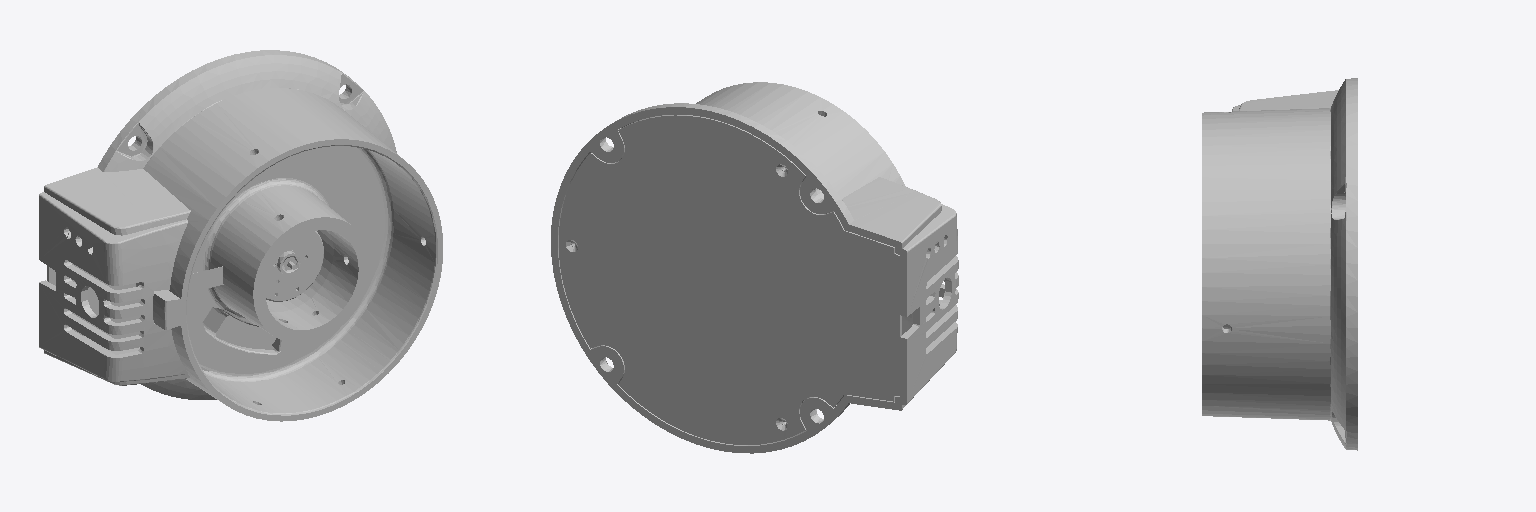
File: arm_base_frame.obj
The picture shows the model from 3 angles: view 1: azimuth 30°, elevation 25°; view 2: azimuth 150°, elevation 25°; view 3: azimuth 270°, elevation 25°; orthographic projection.
Parts seen in each view (by area): view 1: arm_base_frame_arm0-Geometry_001-mes; view 2: arm_base_frame_arm0-Geometry_001-mes; view 3: arm_base_frame_arm0-Geometry_001-mes.
Part boxes in pixels (left/top/right/bottom): arm_base_frame_arm0-Geometry_001-mes: left=39, top=50, right=442, bottom=421; arm_base_frame_arm0-Geometry_001-mes: left=551, top=82, right=958, bottom=453; arm_base_frame_arm0-Geometry_001-mes: left=1202, top=78, right=1357, bottom=450.
Size of the model in its own units: 0.2062 by 0.1865 by 0.078.